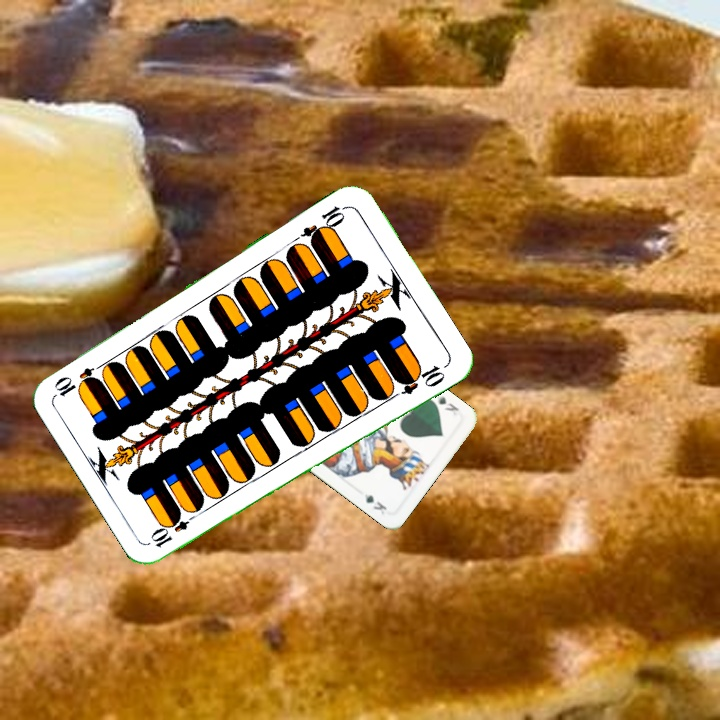E10: (297, 201, 350, 245), (147, 507, 201, 550)
GK: (431, 391, 461, 418)
